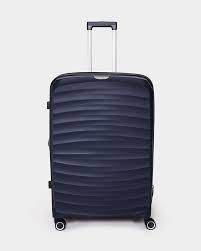suitcase: (45, 20, 157, 232)
